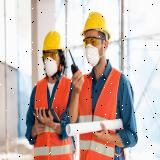Helmet: (80, 10, 112, 41), (43, 32, 64, 54)
Vest: (79, 67, 126, 160), (34, 75, 76, 160)
